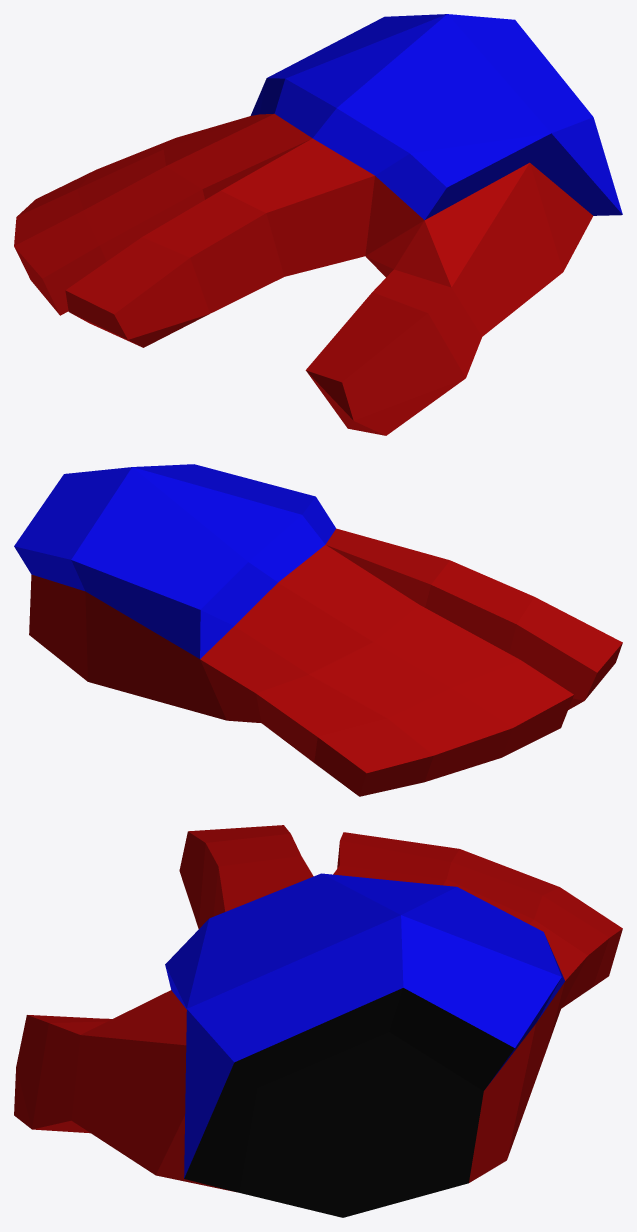
Rendered from Chr_HandRight_Male_Static_06.fbx.
The picture shows the model from 3 angles, top to bottom: view 1: azimuth 30°, elevation 25°; view 2: azimuth 150°, elevation 25°; view 3: azimuth 270°, elevation 25°; orthographic projection. The views are drawn at different scales.
Parts seen in each view (by area): view 1: Chr_HandRight_Male_06; view 2: Chr_HandRight_Male_06; view 3: Chr_HandRight_Male_06.
Boxes of the visible parts, x1,y1,x2,y2 form: Chr_HandRight_Male_06: [14, 14, 622, 435]; Chr_HandRight_Male_06: [14, 464, 622, 796]; Chr_HandRight_Male_06: [14, 825, 622, 1217].
Bounding box in the file's own units: 23.71 × 12.02 × 18.8.
